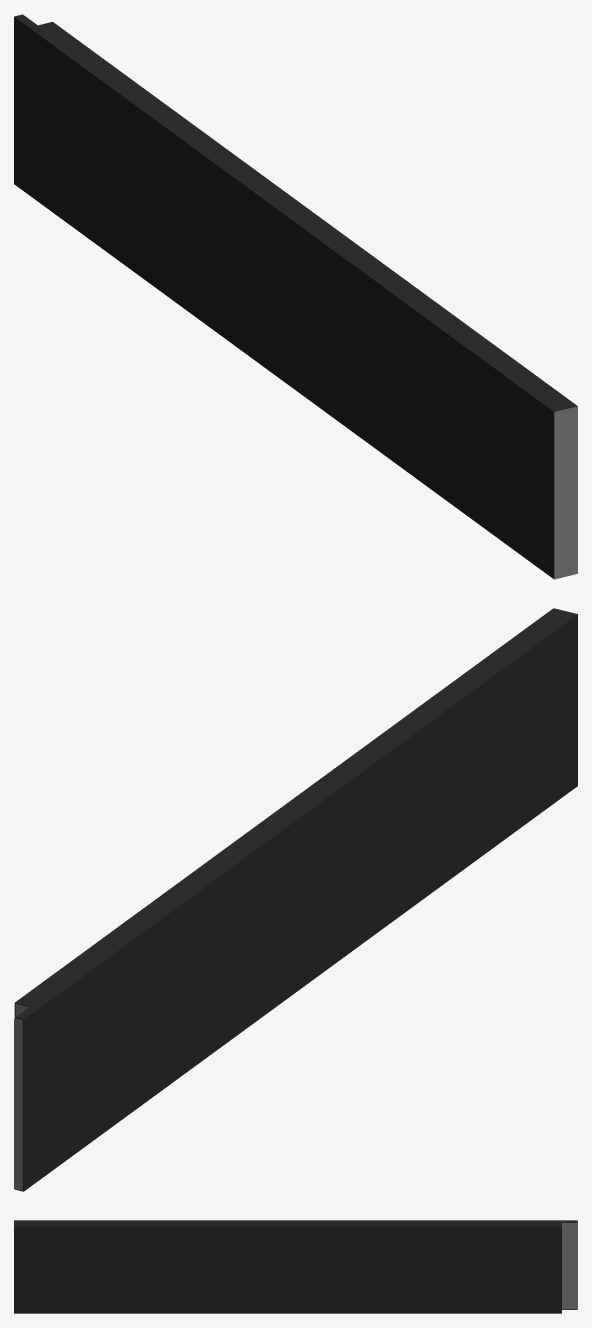
File: mv-boxcap-600-p.glb
3 views of the same model, one above another, from view 1: azimuth 30°, elevation 25°; view 2: azimuth 150°, elevation 25°; view 3: azimuth 270°, elevation 25° (orthographic). The views are drawn at different scales.
Visible parts, largest first — view 1: geometry_0; view 2: geometry_0; view 3: geometry_0.
Boxes of the visible parts, x1,y1,x2,y2 form: geometry_0: [14, 14, 577, 579]; geometry_0: [14, 608, 577, 1191]; geometry_0: [14, 1220, 577, 1313].
Size of the model in its own units: 0.015 by 0.101 by 0.5907.
Materials: 1 (1 with a texture image).
